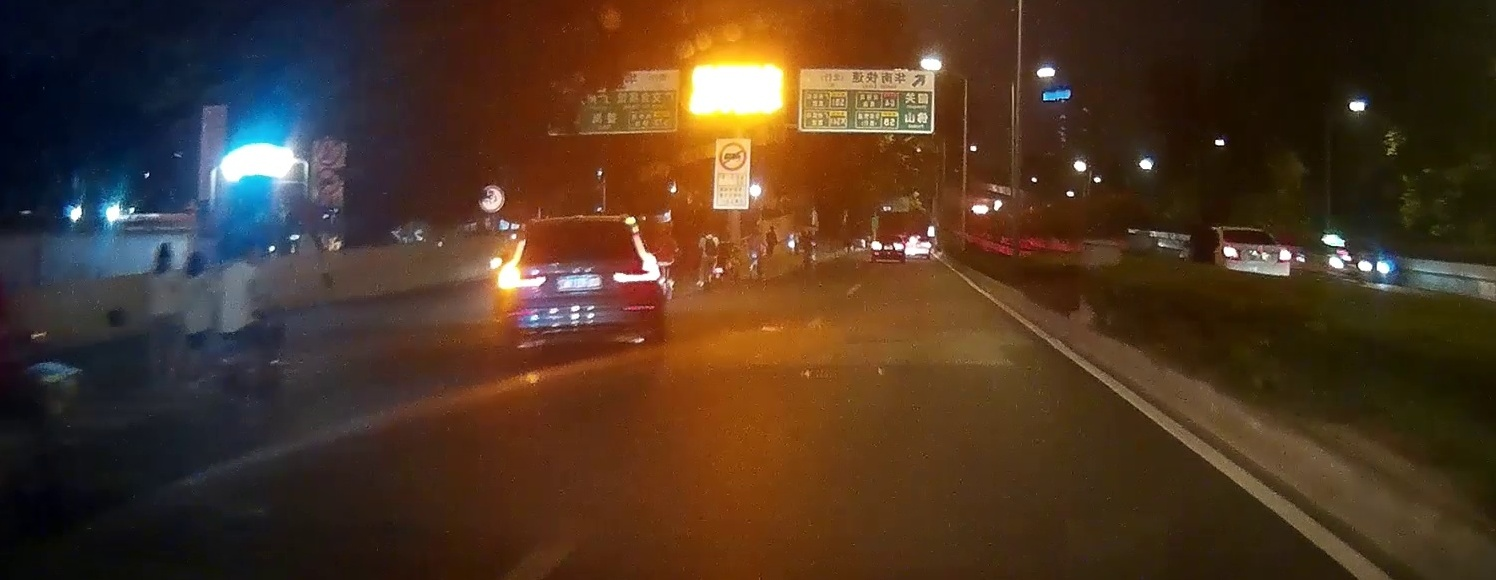L_light: (497, 239, 546, 288), (1223, 246, 1241, 259)
R_light: (611, 235, 662, 283), (1277, 249, 1292, 262)
T_light: (563, 224, 596, 229), (1240, 231, 1253, 234)
night-left: (492, 214, 663, 354)
night-no: (1216, 226, 1292, 285)
